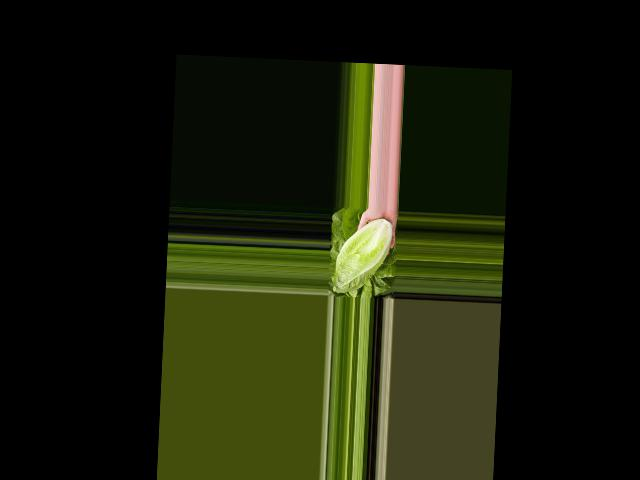lettuce: (332, 215, 395, 295)
